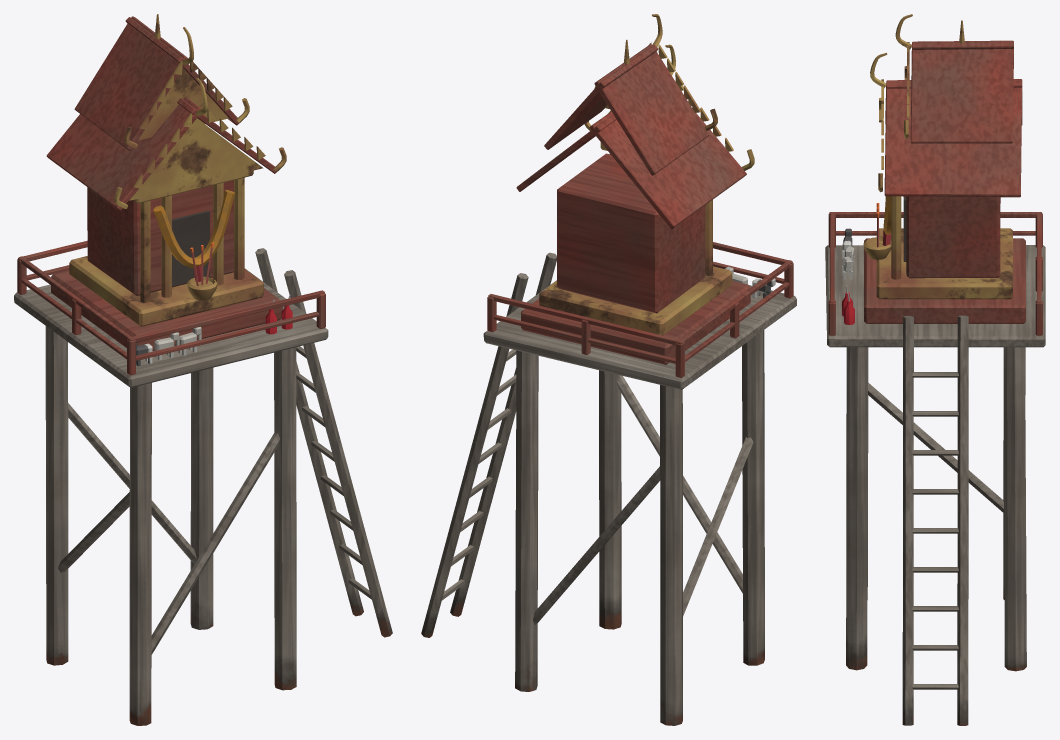
Rendered from SpiritHouseOnStilts.fbx.
3 renders of one model, left to right at view 1: azimuth 30°, elevation 25°; view 2: azimuth 150°, elevation 25°; view 3: azimuth 270°, elevation 25°, orthographic. The views are drawn at different scales.
Visible parts, largest first — view 1: SpiritHouseOnStilts; view 2: SpiritHouseOnStilts; view 3: SpiritHouseOnStilts.
Part boxes in pixels (box(x1,y1,x2,y2)): SpiritHouseOnStilts: box(14, 14, 392, 725); SpiritHouseOnStilts: box(421, 14, 796, 725); SpiritHouseOnStilts: box(825, 14, 1045, 725).
Bounding box in the file's own units: 154 × 314 × 101.
1 material, 1 textured.
